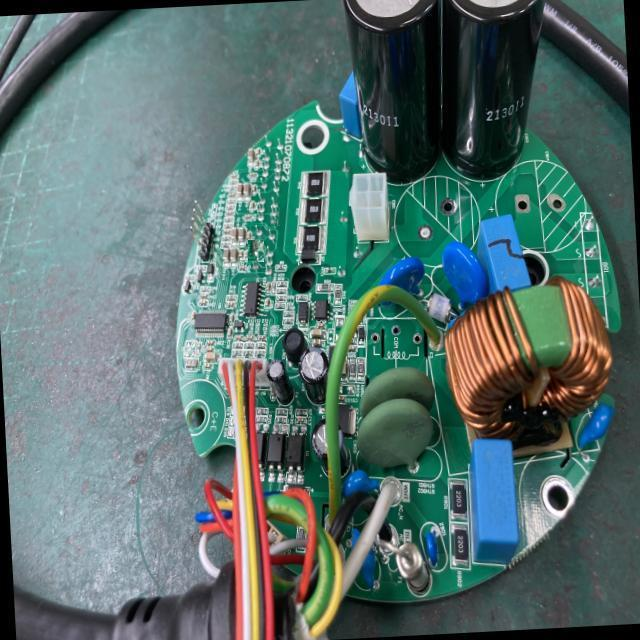damged: (248, 240, 264, 262)
